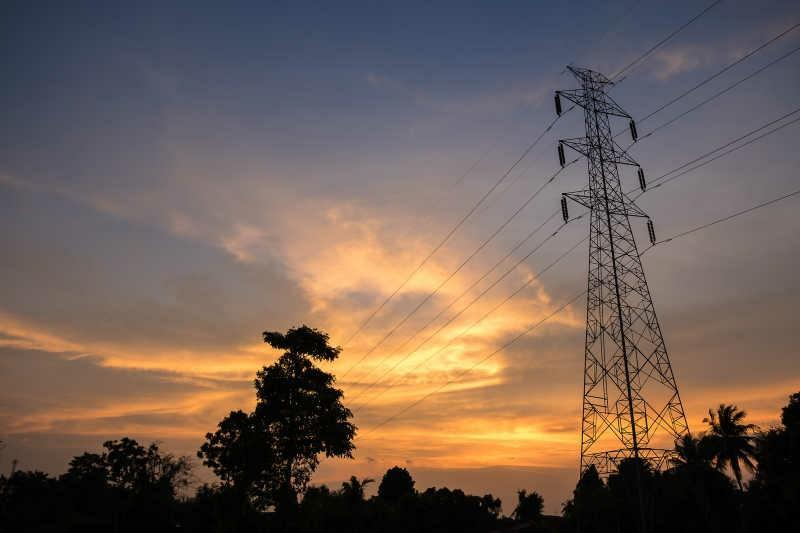power_tower: (548, 54, 705, 481)
